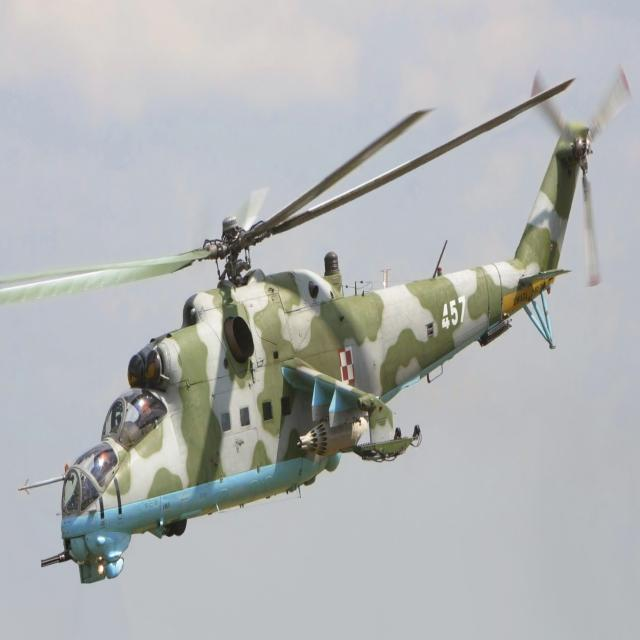helicopter: (1, 64, 628, 585)
